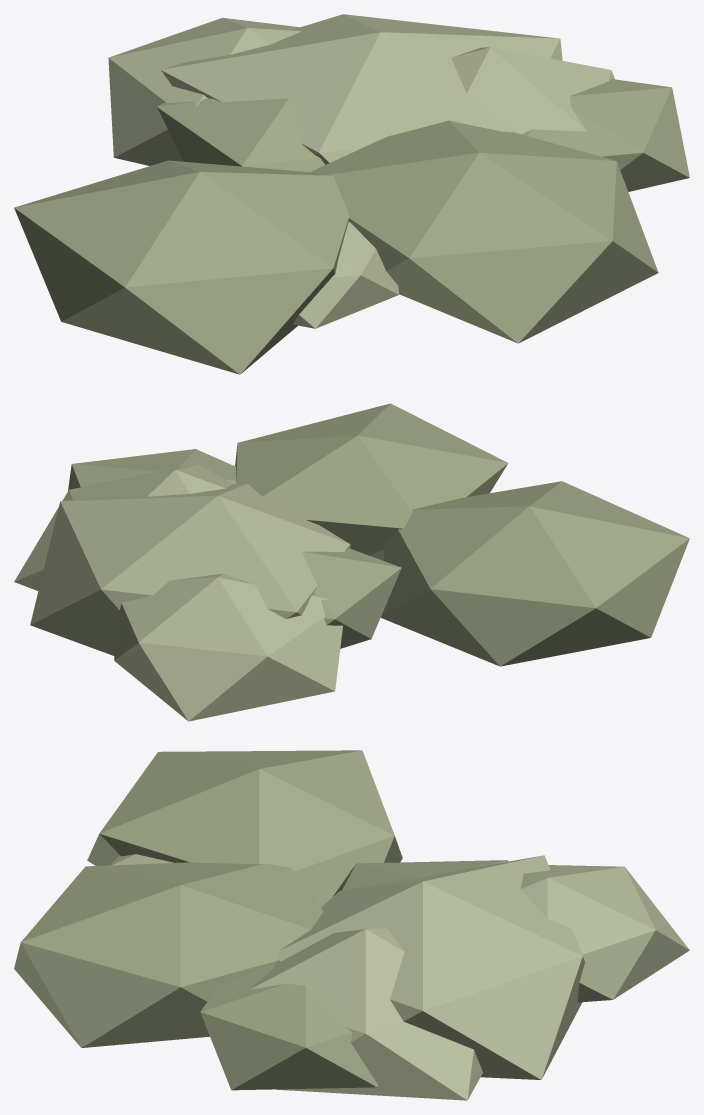
Rendered from renlav_1.glb.
3 renders of one model, top to bottom at view 1: azimuth 30°, elevation 25°; view 2: azimuth 150°, elevation 25°; view 3: azimuth 270°, elevation 25°, orthographic. The views are drawn at different scales.
Parts seen in each view (by area): view 1: renlav_1; view 2: renlav_1; view 3: renlav_1.
Boxes of the visible parts, x1,y1,x2,y2 form: renlav_1: [14, 14, 689, 374]; renlav_1: [14, 403, 689, 721]; renlav_1: [14, 750, 689, 1100].
Bounding box in the file's own units: 1.57 × 0.4234 × 1.55.
